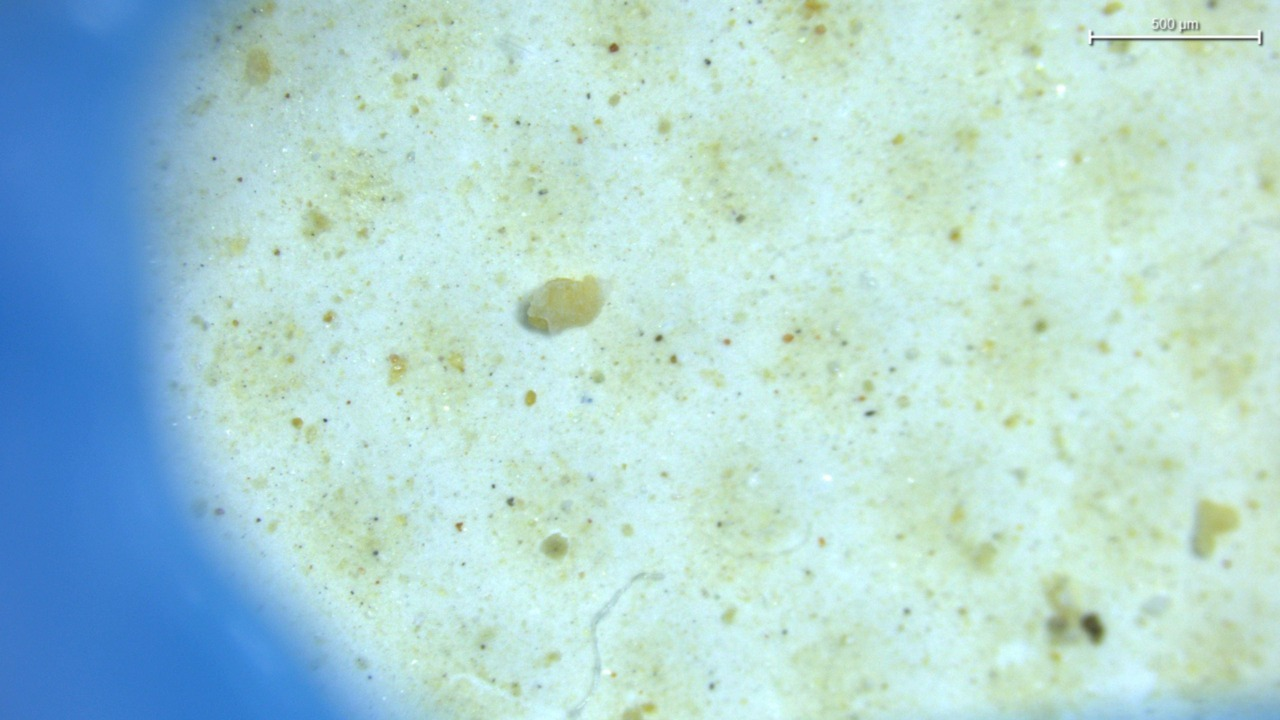microplastic_fragment: (525, 276, 604, 332)
